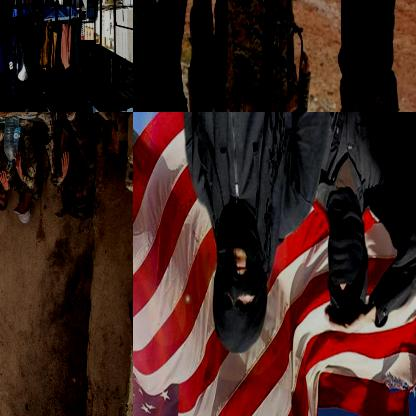rifle: (275, 17, 304, 111), (133, 0, 142, 111)
